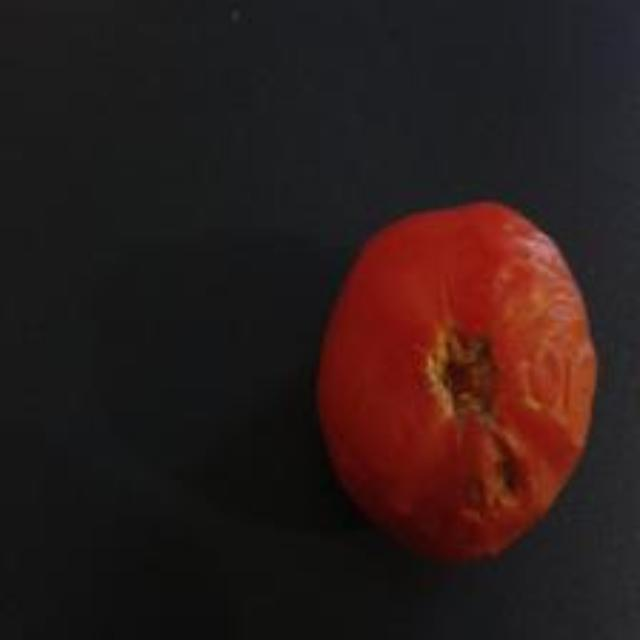defect: (314, 189, 600, 570)
